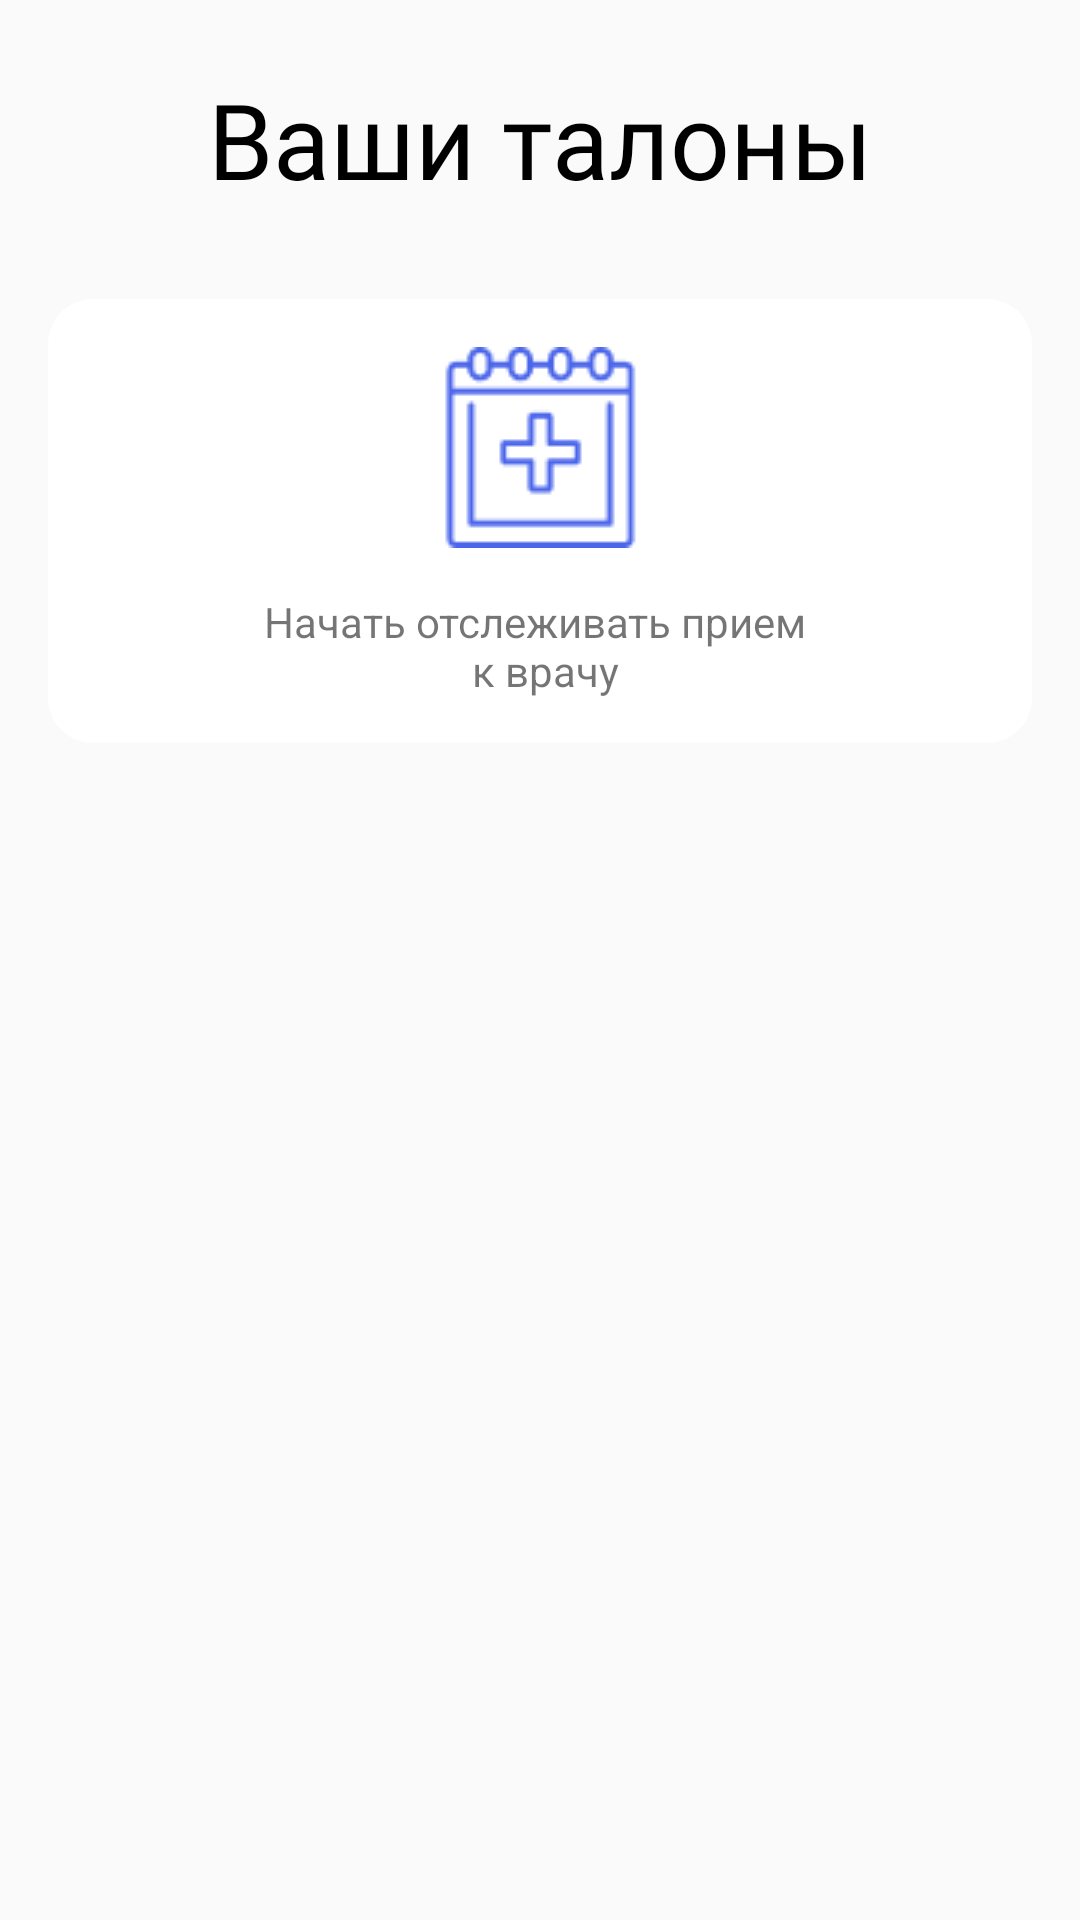

Screen size 1080px x 1920px. Icon name, then its center in pixels as (x,y):
add: (540,447)
